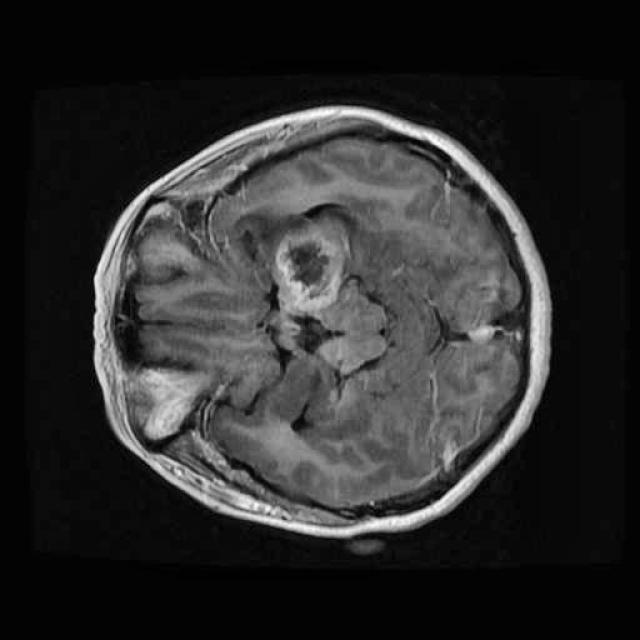Tumor: (260, 196, 359, 322)
